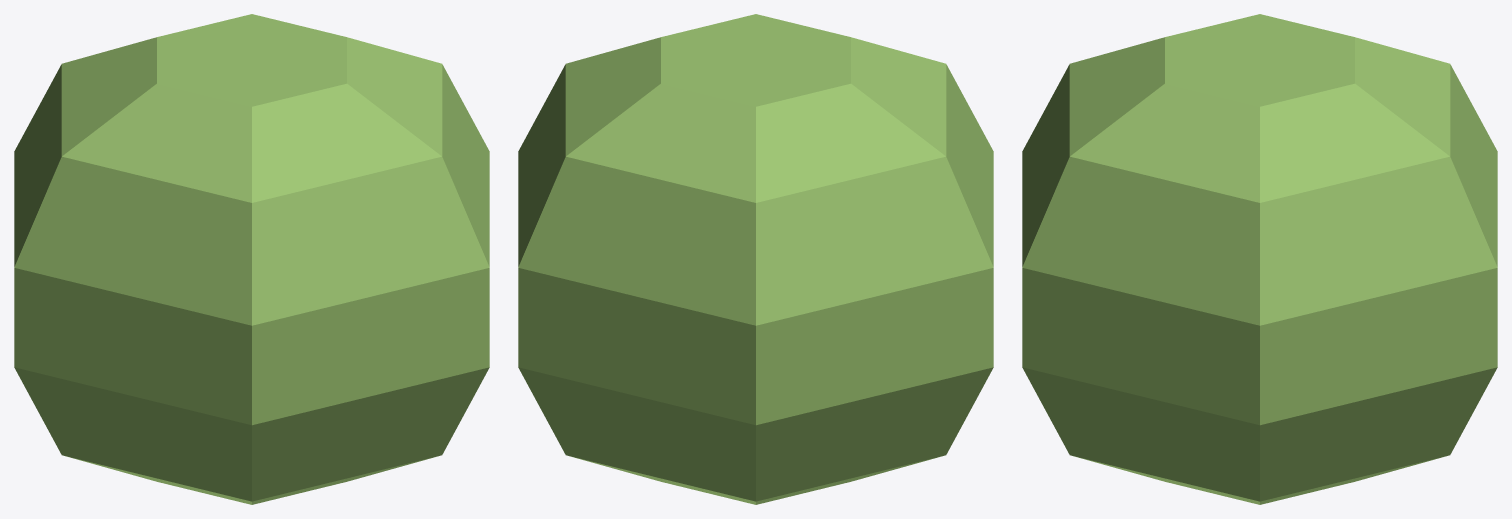
The model's file is Hilly_Prop_Bush_1.glb.
3 renders of one model, left to right at view 1: azimuth 30°, elevation 25°; view 2: azimuth 150°, elevation 25°; view 3: azimuth 270°, elevation 25°, orthographic.
Parts seen in each view (by area): view 1: Hilly_Prop_Bush_1; view 2: Hilly_Prop_Bush_1; view 3: Hilly_Prop_Bush_1.
Boxes of the visible parts, x1,y1,x2,y2 form: Hilly_Prop_Bush_1: (14, 14, 489, 504); Hilly_Prop_Bush_1: (518, 14, 993, 504); Hilly_Prop_Bush_1: (1022, 14, 1497, 504).
Size of the model in its own units: 1 by 0.8 by 0.866.
